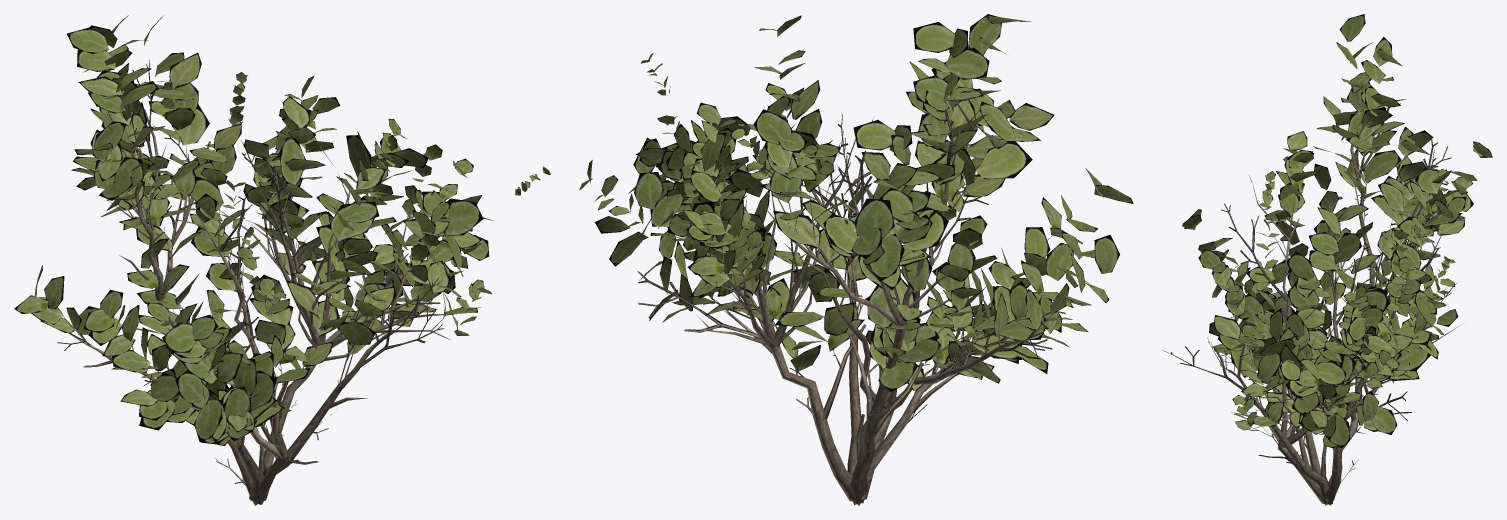
File: arbuste_searsia_e_lod0.glb
3 views of the same model, side by side, from view 1: azimuth 30°, elevation 25°; view 2: azimuth 150°, elevation 25°; view 3: azimuth 270°, elevation 25° (orthographic). The views are drawn at different scales.
Visible parts, largest first — view 1: searsia_lucida_e_LOD0; view 2: searsia_lucida_e_LOD0; view 3: searsia_lucida_e_LOD0.
Boxes of the visible parts, <box> form: searsia_lucida_e_LOD0: <box>14,15,550,505</box>; searsia_lucida_e_LOD0: <box>579,14,1133,505</box>; searsia_lucida_e_LOD0: <box>1162,14,1492,505</box>.
Bounding box in the file's own units: 1.03 × 1.02 × 0.7257.
Materials: 2 (2 with a texture image).
